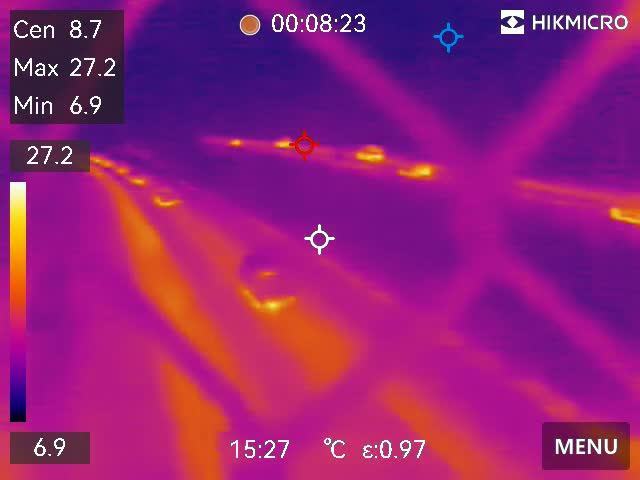vehicle: (241, 250, 299, 319), (151, 189, 189, 209), (351, 139, 382, 163), (398, 162, 429, 176), (130, 173, 151, 187), (273, 139, 295, 150), (113, 163, 130, 176)
